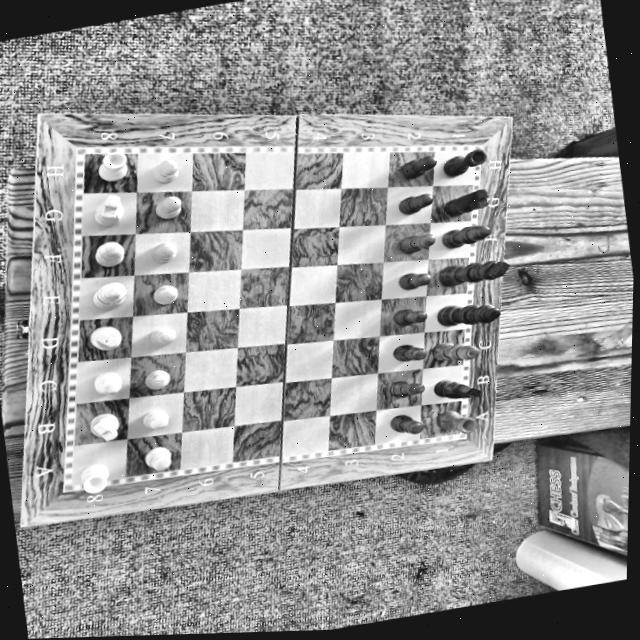black-bishop: (427, 336, 482, 369), (438, 222, 494, 252)
black-king: (435, 253, 513, 291)
black-knight: (426, 371, 484, 413), (439, 187, 491, 221)
black-pawn: (394, 189, 438, 221), (397, 151, 439, 183), (387, 302, 432, 331), (394, 229, 436, 260), (386, 375, 429, 405), (387, 410, 427, 442), (395, 267, 435, 295), (388, 341, 431, 366)
black-queen: (433, 297, 505, 332)
black-rook: (430, 406, 478, 441), (441, 146, 488, 181)
white-bishop: (88, 238, 130, 272), (89, 366, 127, 403)
white-king: (83, 322, 124, 358)
white-knight: (79, 409, 124, 448), (87, 192, 130, 232)
white-pawn: (136, 446, 175, 477), (147, 157, 183, 187), (149, 193, 184, 221), (140, 368, 173, 395), (146, 240, 178, 267), (139, 409, 173, 434), (145, 327, 178, 351), (149, 284, 183, 307)
white-queen: (86, 277, 133, 316)
white-rook: (68, 459, 121, 502), (91, 147, 131, 187)
